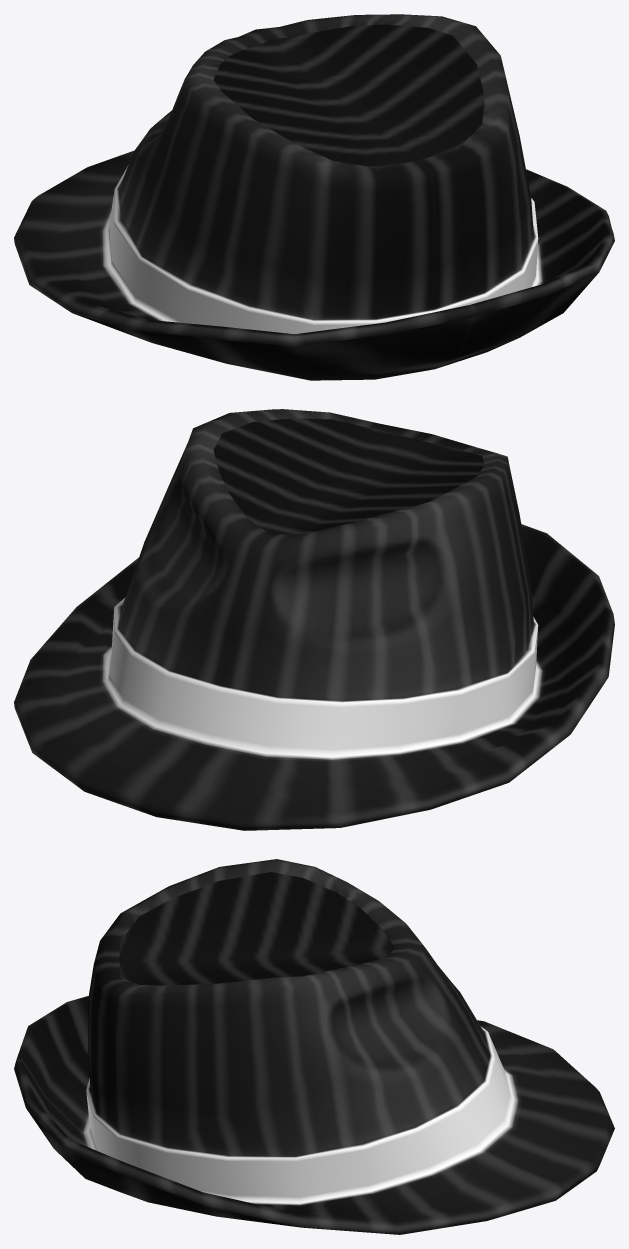
File: roblox_fedora.glb
3 views of the same model, one above another, from view 1: azimuth 30°, elevation 25°; view 2: azimuth 150°, elevation 25°; view 3: azimuth 270°, elevation 25° (orthographic). The views are drawn at different scales.
Parts seen in each view (by area): view 1: Object_2; view 2: Object_2; view 3: Object_2.
Boxes of the visible parts, left/top/right/bottom form: Object_2: left=14, top=14, right=614, bottom=380; Object_2: left=14, top=409, right=614, bottom=830; Object_2: left=14, top=859, right=614, bottom=1234.
Bounding box in the file's own units: 1.84 × 0.8407 × 2.04.
1 material, 1 textured.
